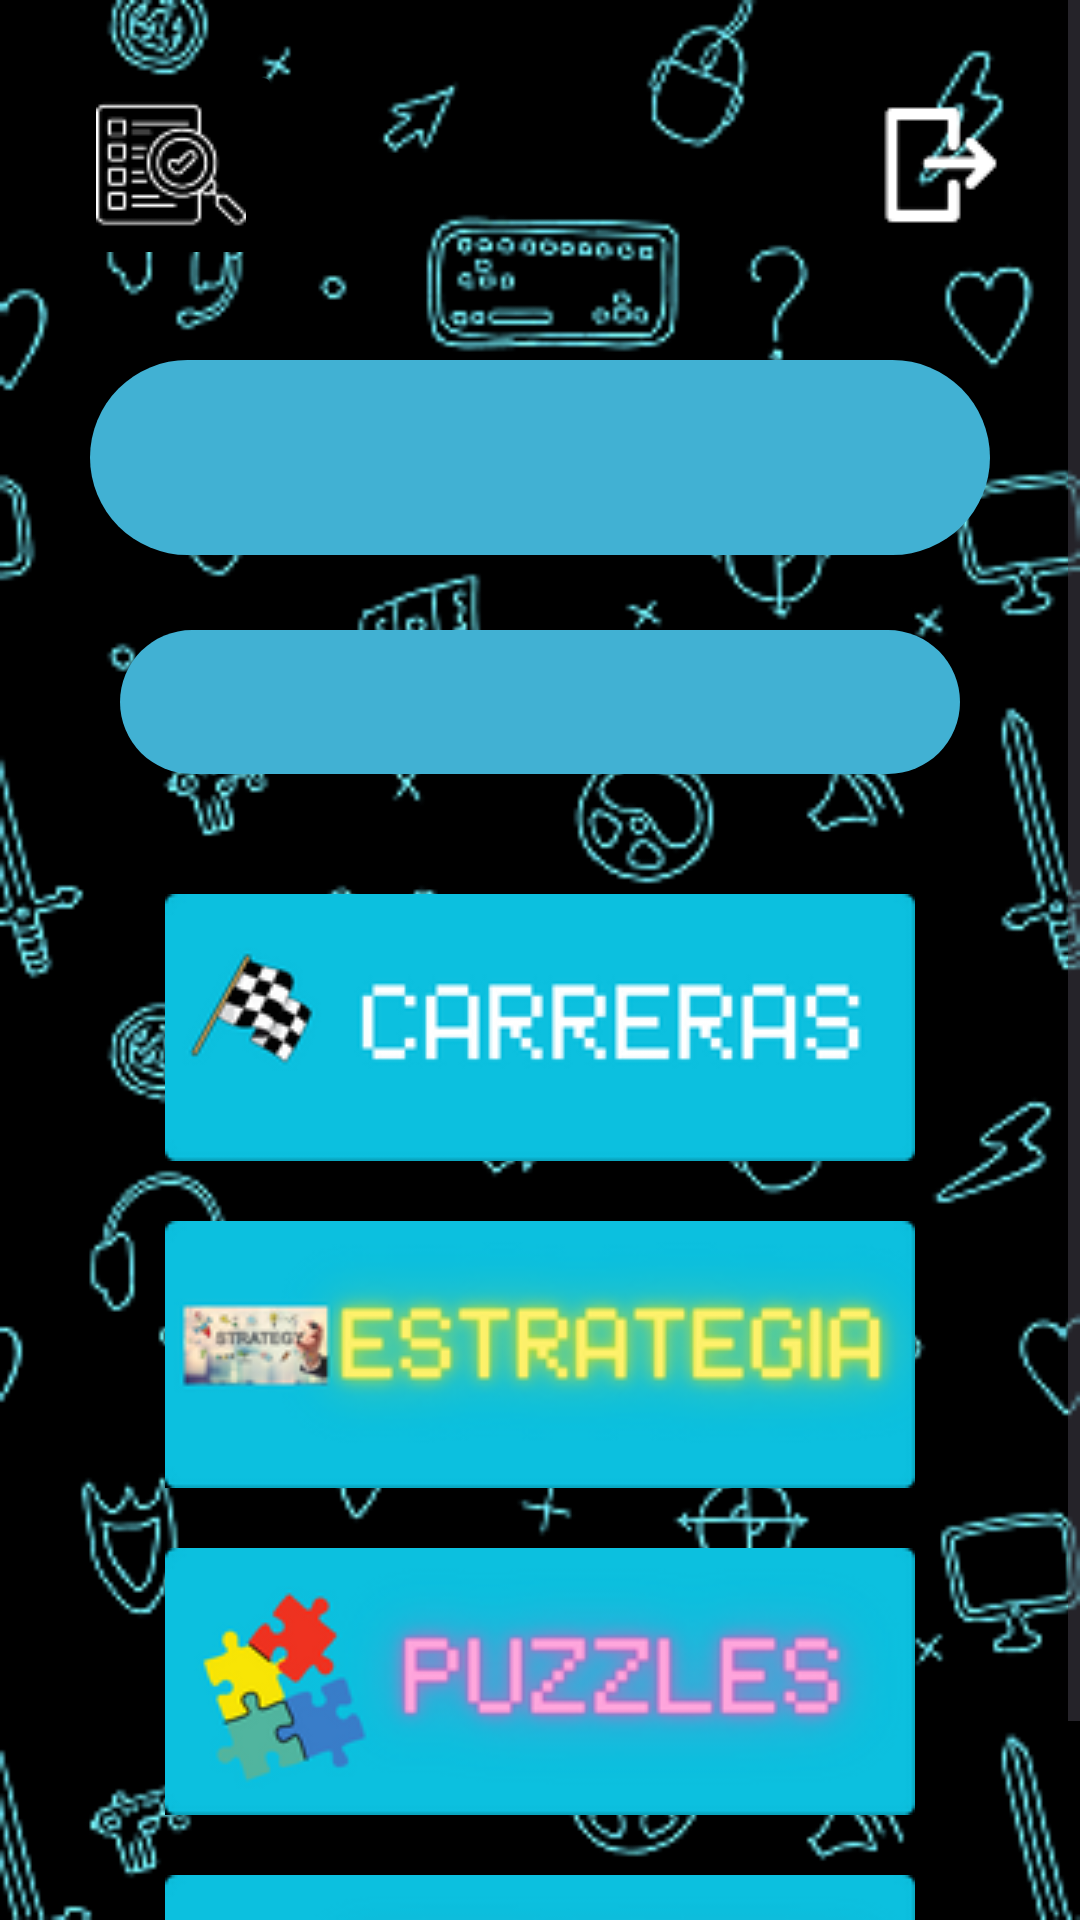

Where to tap for icons on this 1080px x 1920px app screen, as (x=x, y=y):
cerrarsecion: (x=943, y=164)
historial: (x=171, y=165)
